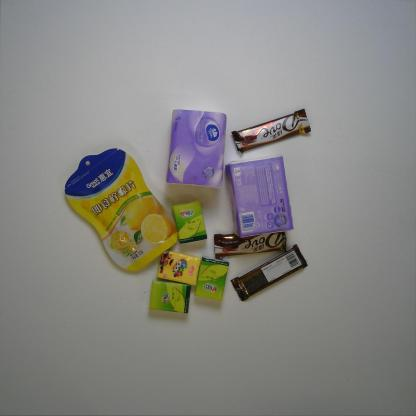Chocolate: (228, 243, 310, 303), (230, 107, 314, 155), (212, 227, 290, 263)
Dried Fruit: (62, 146, 184, 278)
Tissue: (223, 152, 296, 240), (164, 106, 229, 192), (155, 249, 203, 288), (171, 197, 209, 245), (146, 277, 194, 315), (193, 254, 230, 302)
